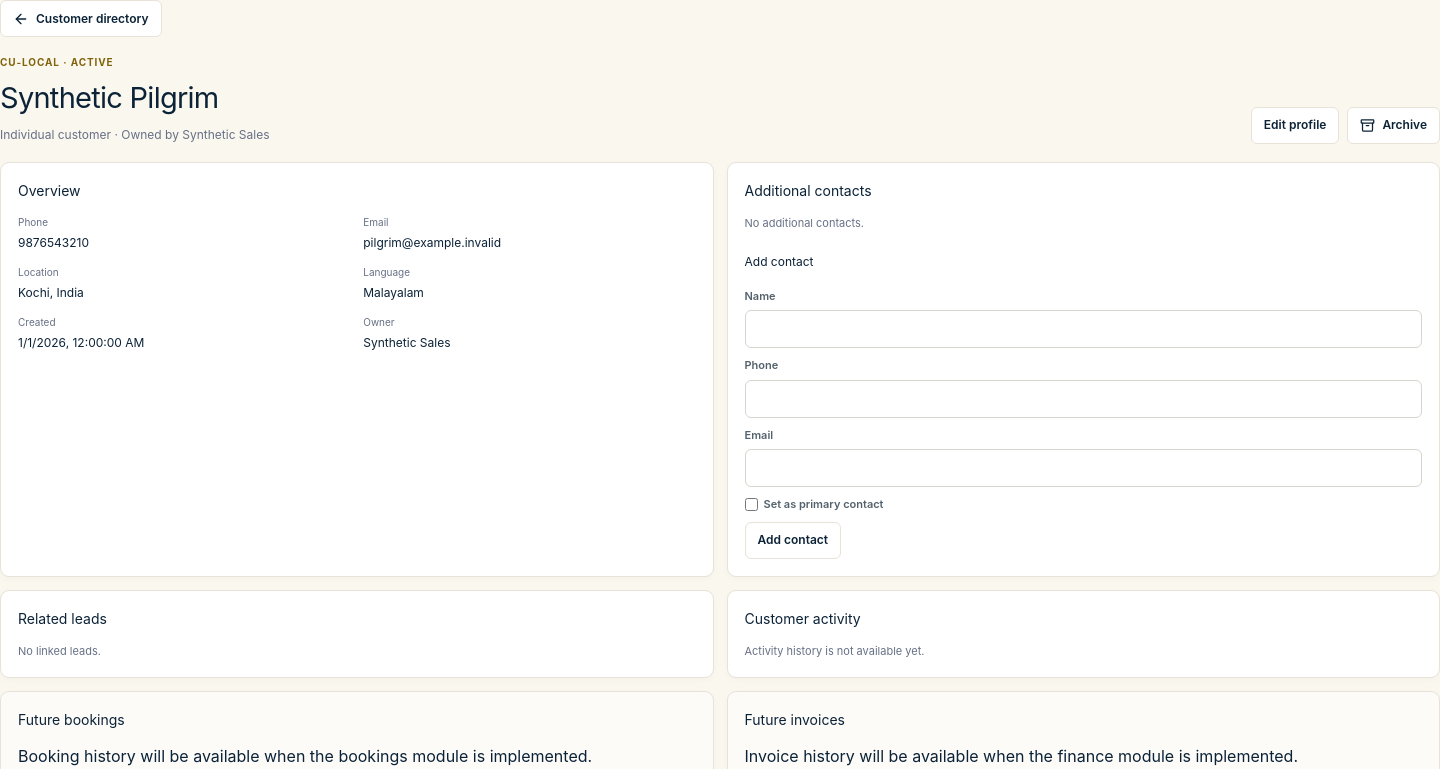
Test: CustomersPage › prefills profile edits and persists a customer status change
Check: the heading "Synthetic Pilgrim" is shown, box [0, 80, 218, 115]
Click the button "Edit profile" at (1295, 125), box [1251, 106, 1339, 144]
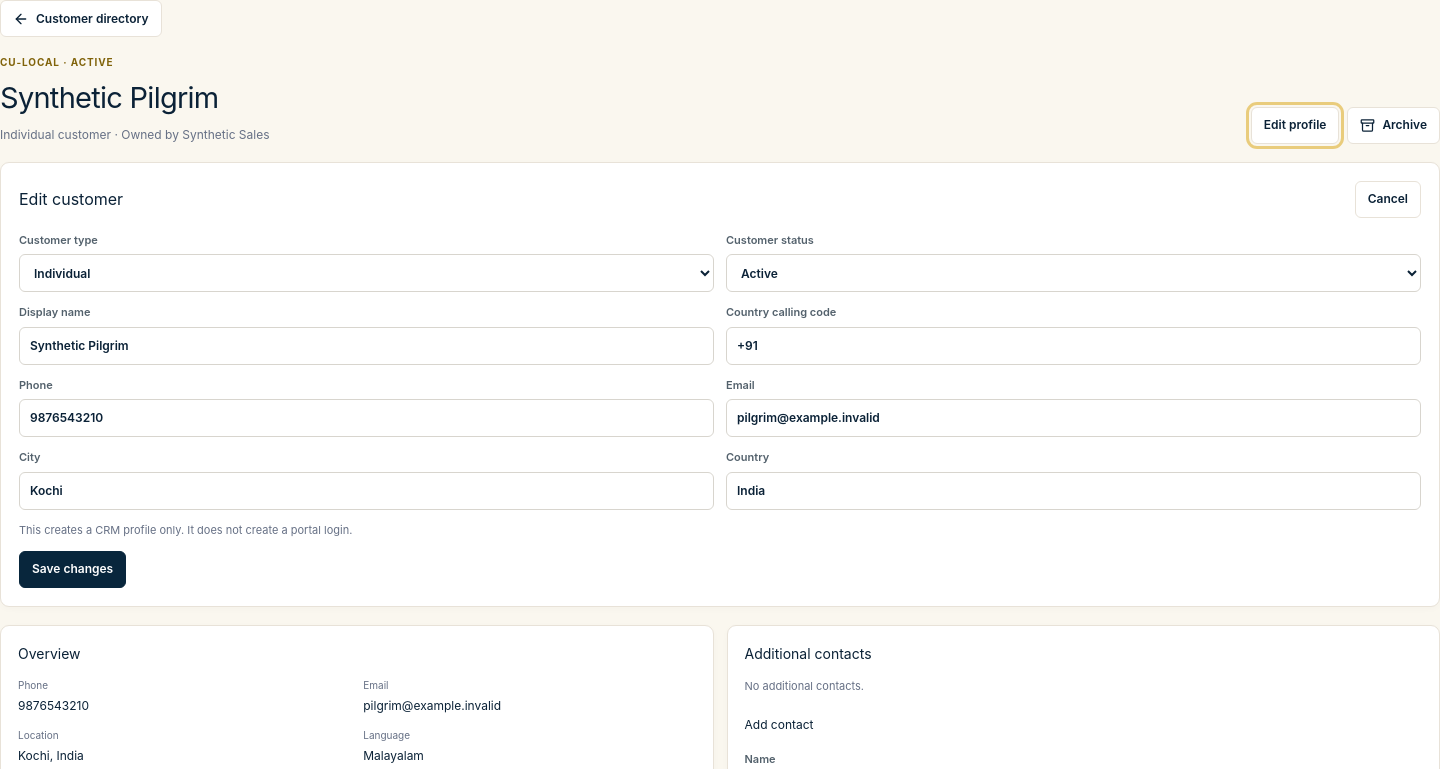
Check: the field labelled "Display name" holds "Synthetic Pilgrim", box [19, 326, 714, 364]
Select "Inactive" in the dropdown labelled "Customer status" at (1074, 273), box [726, 254, 1421, 292]
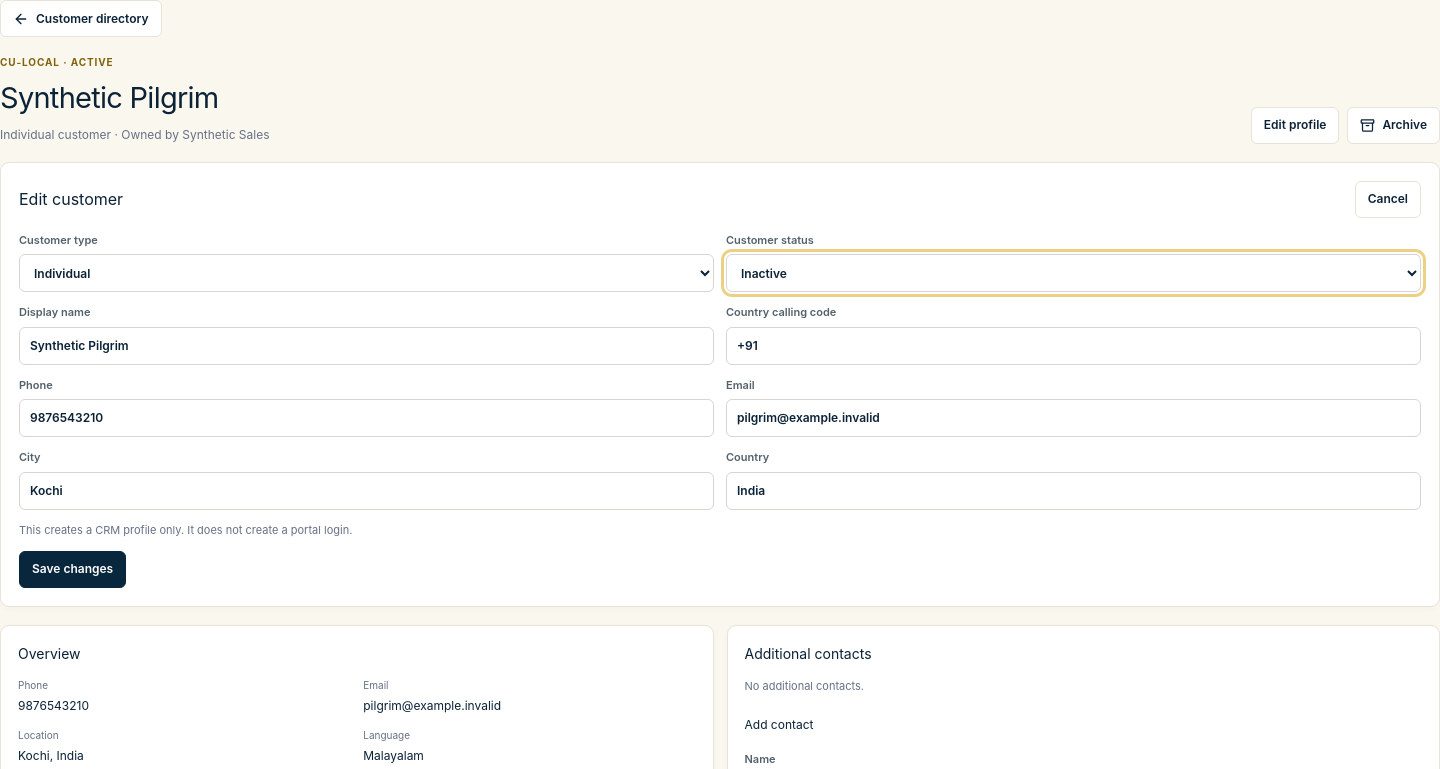
Click the button "Save changes" at (73, 569), box [19, 550, 126, 588]
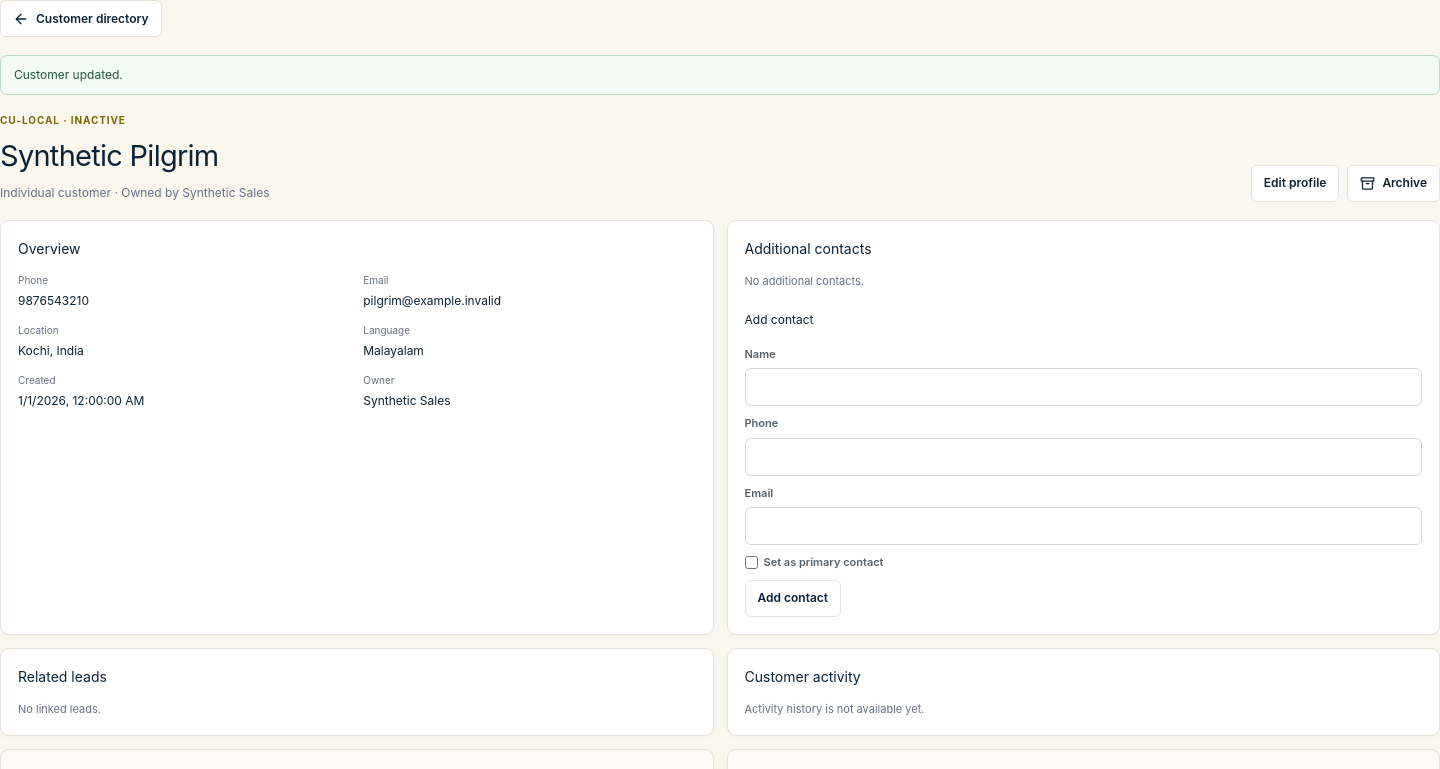
Check: the text "CU-LOCAL · INACTIVE" is shown, box [0, 114, 126, 126]
